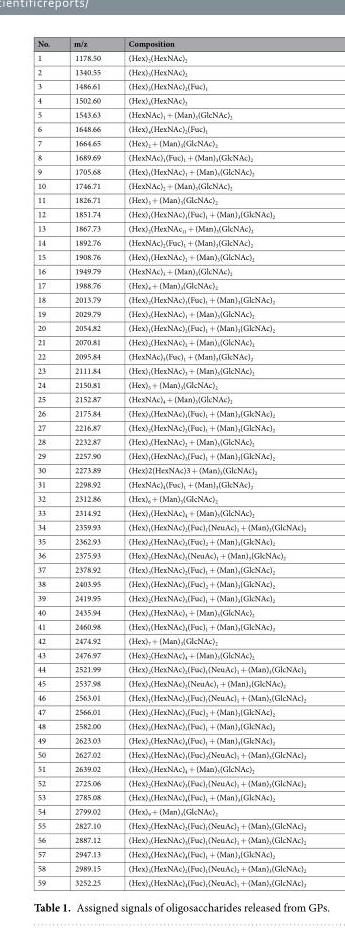table: (36, 37, 305, 888)
table column: (113, 37, 305, 888), (61, 37, 113, 888), (36, 37, 61, 888)
table column header: (36, 37, 305, 50)
table row: (36, 78, 305, 93), (36, 135, 305, 150), (36, 206, 305, 221), (36, 263, 305, 278), (36, 334, 305, 349), (36, 391, 305, 406), (36, 462, 305, 477), (36, 533, 305, 548), (36, 590, 305, 605), (36, 661, 305, 676), (36, 718, 305, 733), (36, 789, 305, 804), (36, 846, 305, 861), (36, 50, 305, 64), (36, 64, 305, 78), (36, 93, 305, 107), (36, 107, 305, 121), (36, 121, 305, 135), (36, 150, 305, 164), (36, 164, 305, 178), (36, 178, 305, 192), (36, 192, 305, 206), (36, 221, 305, 235), (36, 235, 305, 249), (36, 249, 305, 263), (36, 278, 305, 292), (36, 292, 305, 306), (36, 306, 305, 320), (36, 320, 305, 334), (36, 349, 305, 363), (36, 363, 305, 377), (36, 377, 305, 391), (36, 406, 305, 420), (36, 420, 305, 434), (36, 434, 305, 448), (36, 448, 305, 462), (36, 477, 305, 491), (36, 491, 305, 505), (36, 505, 305, 519), (36, 519, 305, 533), (36, 548, 305, 562), (36, 562, 305, 576), (36, 576, 305, 590), (36, 605, 305, 619), (36, 619, 305, 633), (36, 633, 305, 647), (36, 647, 305, 661), (36, 676, 305, 690), (36, 690, 305, 704), (36, 704, 305, 718), (36, 733, 305, 747), (36, 747, 305, 761), (36, 761, 305, 775), (36, 775, 305, 789), (36, 804, 305, 818), (36, 818, 305, 832), (36, 832, 305, 846), (36, 861, 305, 875), (36, 37, 305, 50), (36, 875, 305, 888)
